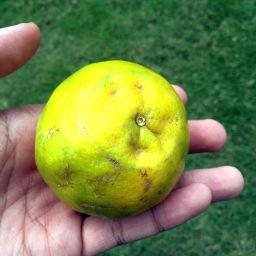Unripe: (37, 64, 189, 215)
